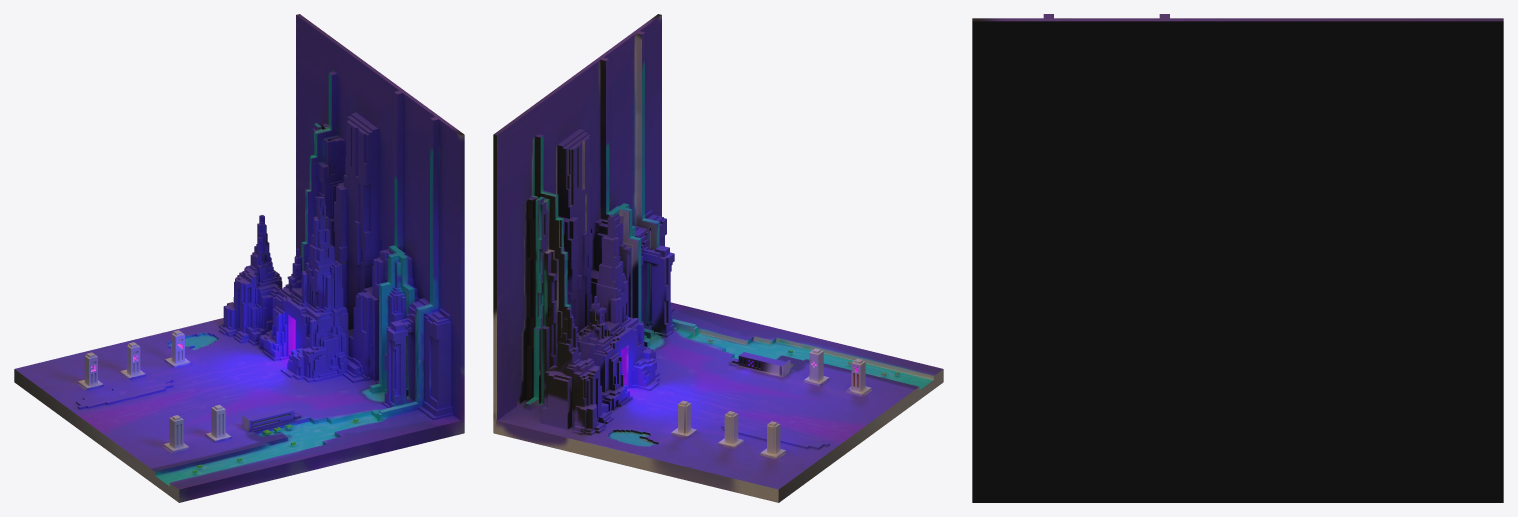
Rendered from castle_floor_com.glb.
3 views of the same model, side by side, from view 1: azimuth 30°, elevation 25°; view 2: azimuth 150°, elevation 25°; view 3: azimuth 270°, elevation 25° (orthographic). The views are drawn at different scales.
Visible parts, largest first — view 1: castle_floor_voxel_white_export; view 2: castle_floor_voxel_white_export; view 3: castle_floor_voxel_white_export.
Boxes of the visible parts, x1,y1,x2,y2 form: castle_floor_voxel_white_export: (14, 14, 464, 502); castle_floor_voxel_white_export: (493, 14, 943, 502); castle_floor_voxel_white_export: (972, 14, 1503, 502).
Bounding box in the file's own units: 156 × 156 × 156.
Materials: 1 (1 with a texture image).
